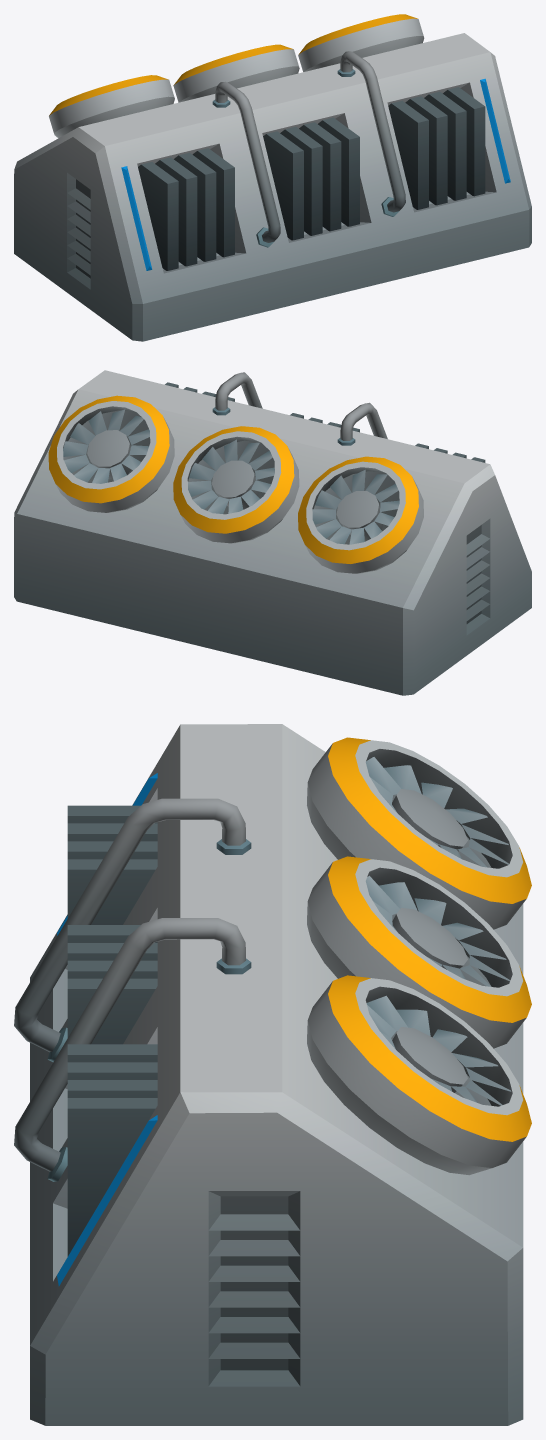
The model's file is Ventilation_009.fbx.
3 renders of one model, top to bottom at view 1: azimuth 30°, elevation 25°; view 2: azimuth 150°, elevation 25°; view 3: azimuth 270°, elevation 25°, orthographic. The views are drawn at different scales.
Parts seen in each view (by area): view 1: Ventilation_009; view 2: Ventilation_009; view 3: Ventilation_009.
Part boxes in pixels (x1,y1,x2,y2): Ventilation_009: [14, 14, 531, 341]; Ventilation_009: [14, 370, 531, 695]; Ventilation_009: [14, 724, 531, 1425].
Bounding box in the file's own units: 150 × 86.13 × 69.17.
